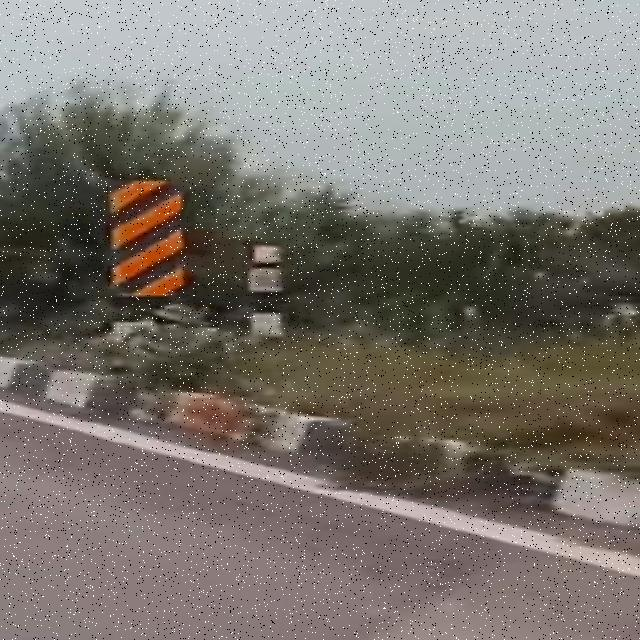object_hazzard_to_right: (104, 175, 204, 306)
